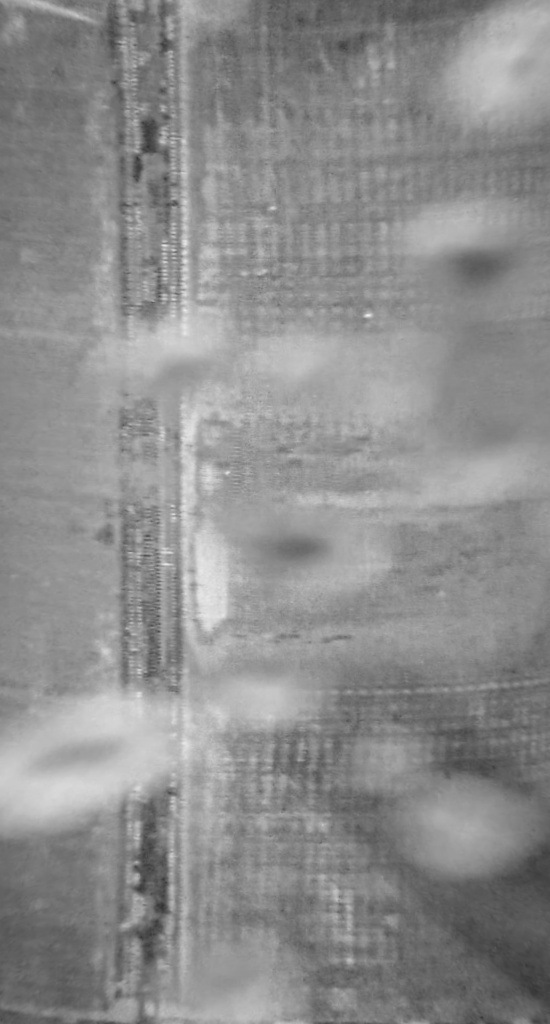splice: (107, 1, 204, 1024)
